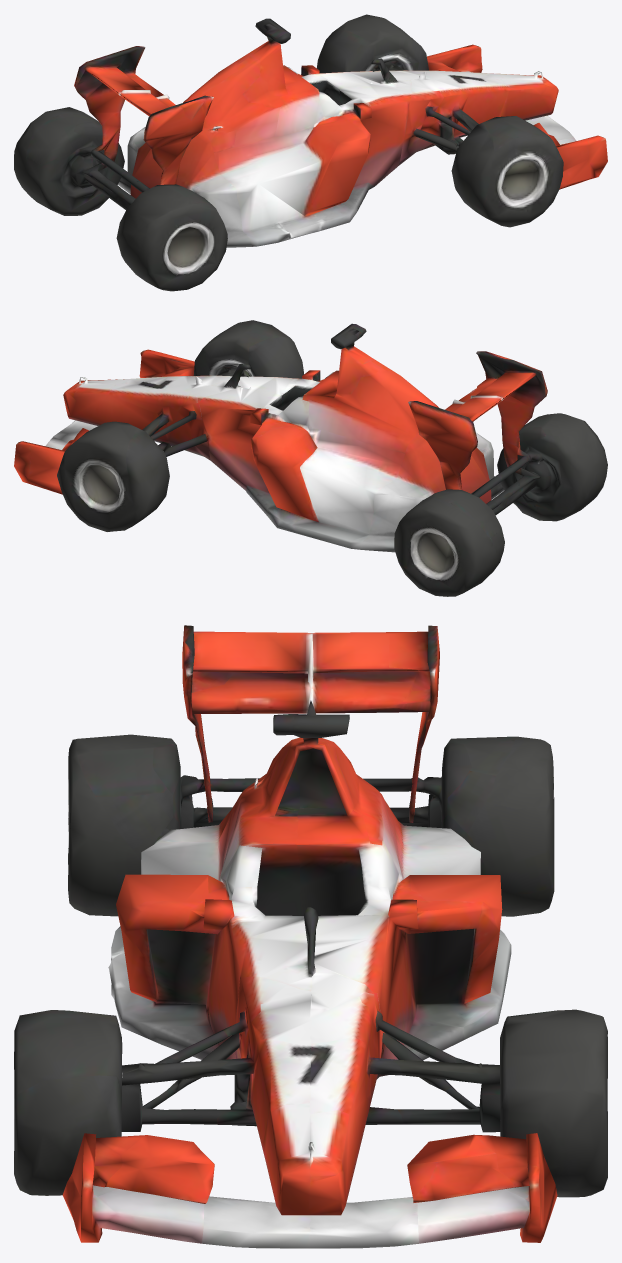
File: f1car.glb
3 views of the same model, one above another, from view 1: azimuth 30°, elevation 25°; view 2: azimuth 150°, elevation 25°; view 3: azimuth 270°, elevation 25° (orthographic). The views are drawn at different scales.
Parts seen in each view (by area): view 1: tripo_node_679fa46a-a8e0-49bc-8eb7-b6096abb4050; view 2: tripo_node_679fa46a-a8e0-49bc-8eb7-b6096abb4050; view 3: tripo_node_679fa46a-a8e0-49bc-8eb7-b6096abb4050.
Boxes of the visible parts, x1=… form: tripo_node_679fa46a-a8e0-49bc-8eb7-b6096abb4050: x1=14, y1=14, x2=607, y2=291; tripo_node_679fa46a-a8e0-49bc-8eb7-b6096abb4050: x1=14, y1=320, x2=607, y2=596; tripo_node_679fa46a-a8e0-49bc-8eb7-b6096abb4050: x1=14, y1=625, x2=607, y2=1248.
Bounding box in the file's own units: 0.9993 × 0.3748 × 0.6049.
1 material, 1 textured.
